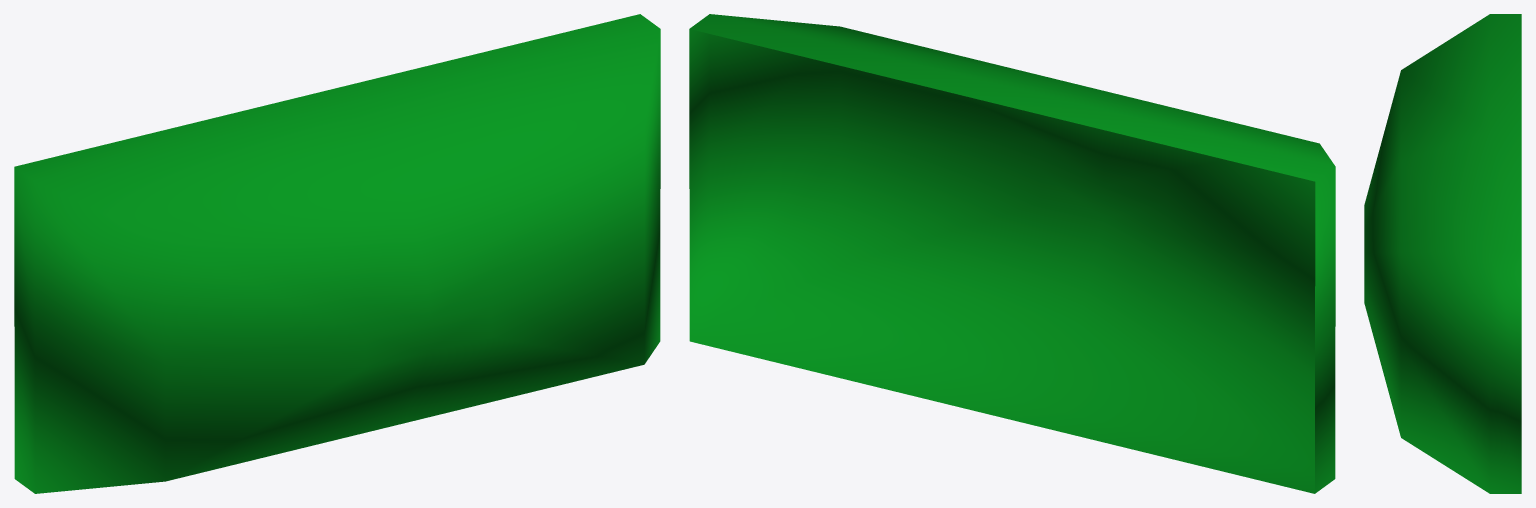
The model's file is Button_On.glb.
3 views of the same model, side by side, from view 1: azimuth 30°, elevation 25°; view 2: azimuth 150°, elevation 25°; view 3: azimuth 270°, elevation 25° (orthographic). The views are drawn at different scales.
Visible parts, largest first — view 1: ButtonOn; view 2: ButtonOn; view 3: ButtonOn.
Boxes of the visible parts, x1,y1,x2,y2 form: ButtonOn: (14,14,660,493); ButtonOn: (689,14,1335,493); ButtonOn: (1364,14,1521,493).
Size of what is drawn, in the model's own units: 0.3562 by 0.1699 by 0.1.
1 material, 1 textured.
